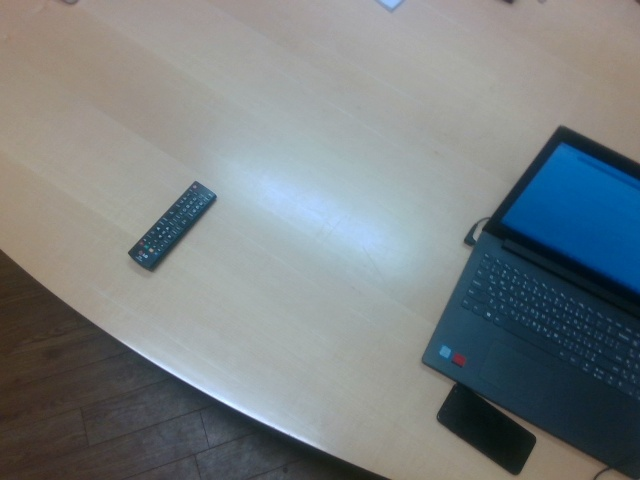remote: (127, 180, 219, 272)
